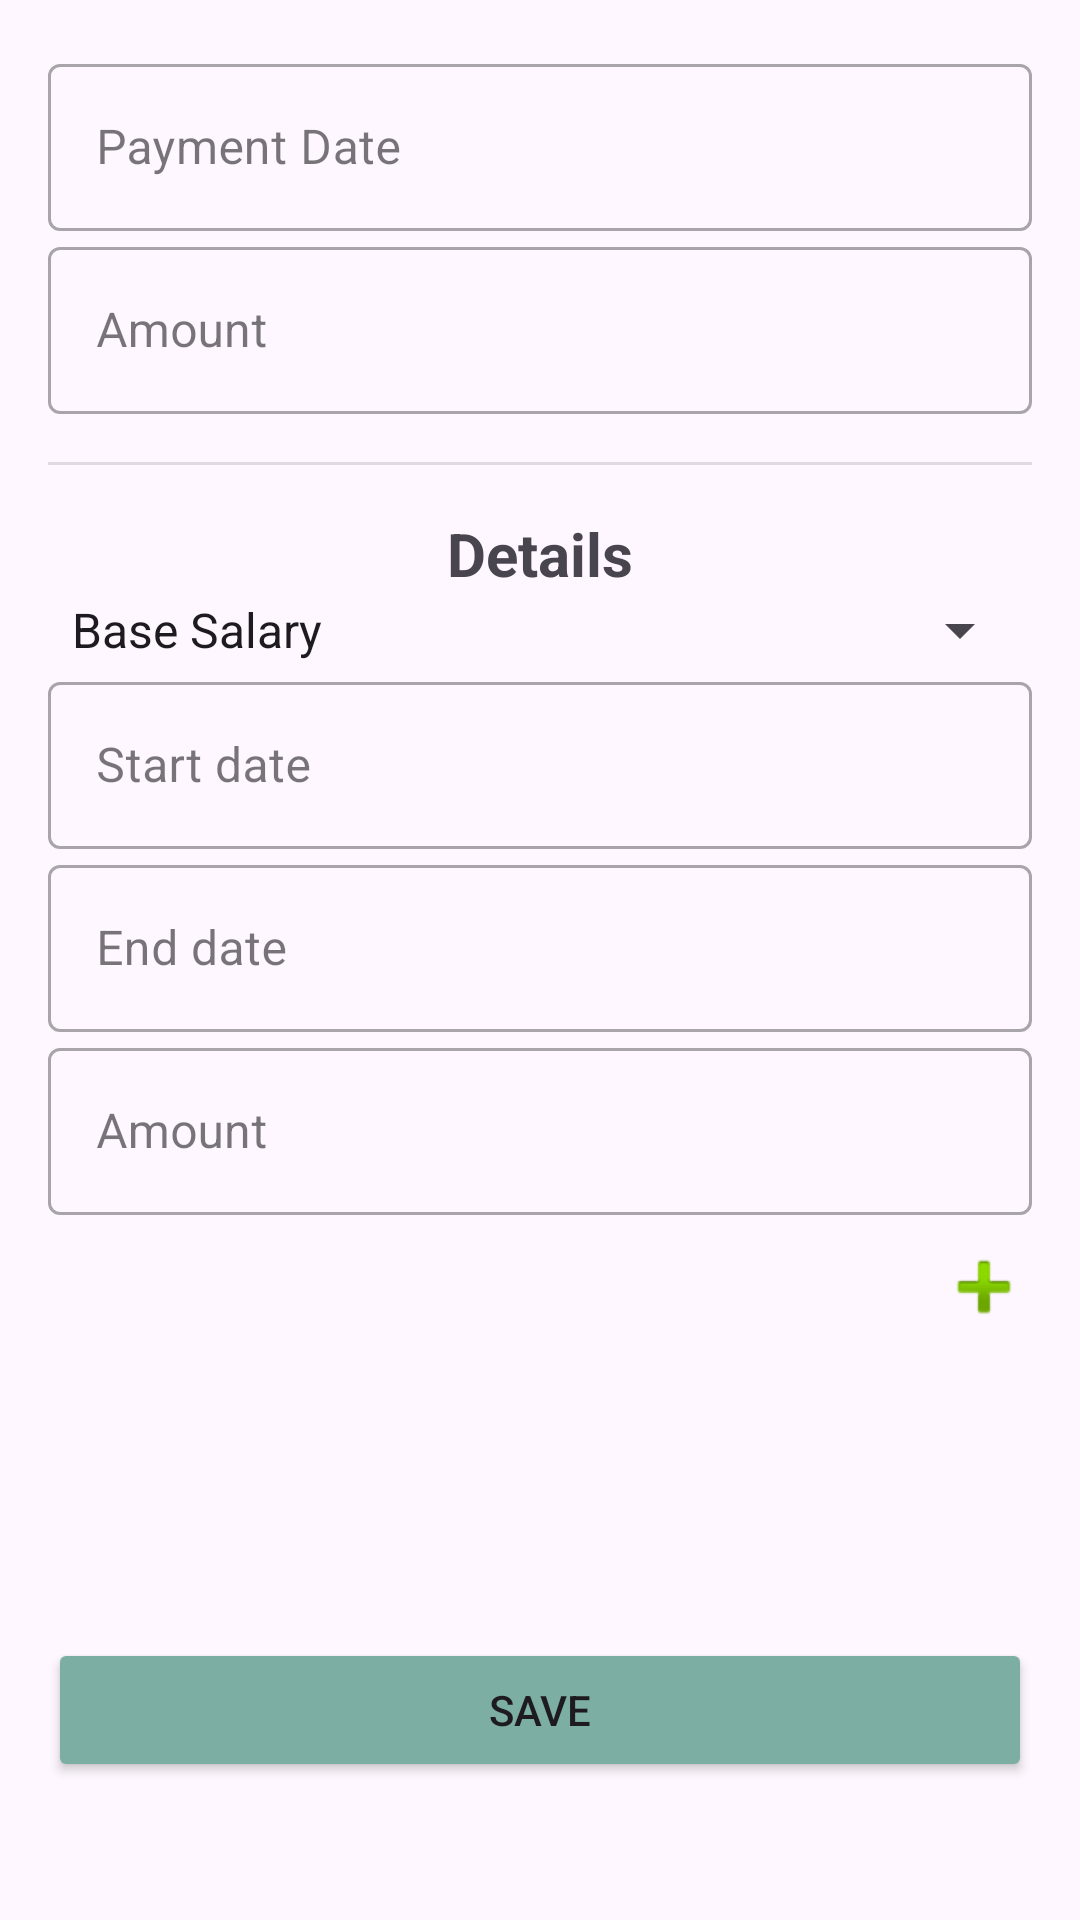

Named icons in this screenshot (1080 x 1920) and their bounding boxes, region(x1, y1, x2, y2):
add payment detail: region(957, 1260, 1011, 1314)
